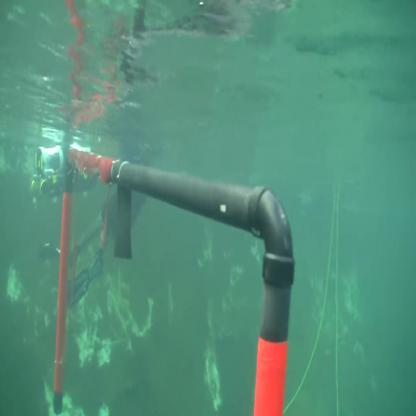gate: (47, 142, 297, 416)
